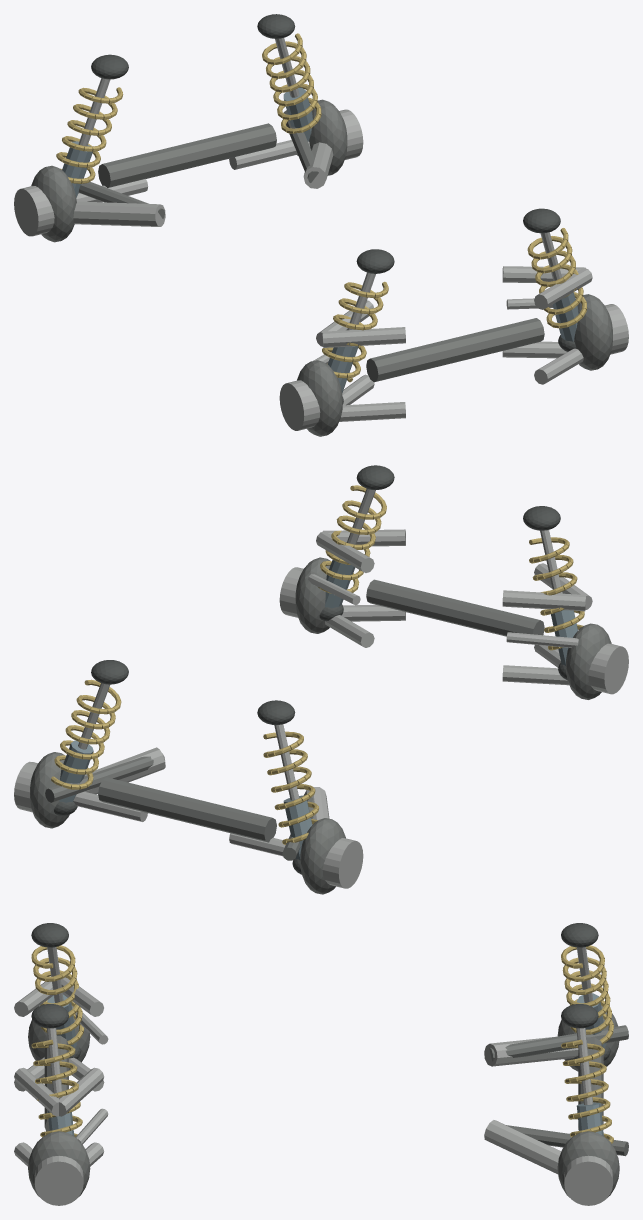
Rendered from PART_013_SuspensionAssembly.glb.
3 views of the same model, one above another, from view 1: azimuth 30°, elevation 25°; view 2: azimuth 150°, elevation 25°; view 3: azimuth 270°, elevation 25° (orthographic).
Visible parts, largest first — view 1: SUSP_RearCrossmember, SUSP_FrontCrossmember, Rear_R_CoilSpring, Front_R_Knuckle, Rear_L_CoilSpring, Rear_L_TrailingArm_Main, Front_L_Knuckle, Front_R_CoilSpring, Rear_L_Knuckle, Front_L_CoilSpring, Rear_R_Knuckle, Rear_L_Hub (+21 smaller); view 2: SUSP_RearCrossmember, SUSP_FrontCrossmember, Rear_R_CoilSpring, Rear_L_Knuckle, Front_L_Knuckle, Rear_L_CoilSpring, Front_R_CoilSpring, Front_R_Knuckle, Rear_R_Knuckle, Front_L_Hub, Rear_L_Hub, Front_L_CoilSpring (+22 smaller); view 3: Rear_L_CoilSpring, Front_R_Hub, Rear_R_Hub, Front_L_CoilSpring, Rear_R_CoilSpring, Rear_R_TrailingArm_Main, Rear_R_Knuckle, Front_R_Knuckle, Front_R_CoilSpring, Rear_L_TrailingArm_Brace, Rear_L_TrailingArm_Main, Front_R_UpperArm_Fwd (+18 smaller).
Boxes of the visible parts, x1=… form: SUSP_RearCrossmember: x1=98, y1=123, x2=276, y2=187; SUSP_FrontCrossmember: x1=366, y1=318, x2=544, y2=382; Rear_R_CoilSpring: x1=262, y1=33, x2=321, y2=133; Front_R_Knuckle: x1=574, y1=294, x2=612, y2=370; Rear_L_CoilSpring: x1=56, y1=87, x2=123, y2=183; Rear_L_TrailingArm_Main: x1=73, y1=201, x2=165, y2=226; Front_L_Knuckle: x1=297, y1=360, x2=342, y2=436; Front_R_CoilSpring: x1=527, y1=228, x2=587, y2=328; Rear_L_Knuckle: x1=31, y1=165, x2=76, y2=242; Front_L_CoilSpring: x1=322, y1=281, x2=388, y2=382; Rear_R_Knuckle: x1=309, y1=99, x2=347, y2=175; Rear_L_Hub: x1=14, y1=186, x2=54, y2=236; SUSP_RearCrossmember: x1=98, y1=777, x2=276, y2=842; SUSP_FrontCrossmember: x1=366, y1=579, x2=544, y2=636; Rear_R_CoilSpring: x1=51, y1=679, x2=121, y2=789; Rear_L_Knuckle: x1=300, y1=818, x2=345, y2=894; Front_L_Knuckle: x1=566, y1=623, x2=611, y2=699; Rear_L_CoilSpring: x1=263, y1=731, x2=318, y2=844; Front_R_CoilSpring: x1=318, y1=485, x2=386, y2=593; Front_R_Knuckle: x1=295, y1=557, x2=330, y2=633; Rear_R_Knuckle: x1=30, y1=752, x2=69, y2=828; Front_L_Hub: x1=588, y1=643, x2=628, y2=694; Rear_L_Hub: x1=322, y1=838, x2=363, y2=888; Front_L_CoilSpring: x1=529, y1=537, x2=584, y2=650; Rear_L_CoilSpring: x1=561, y1=945, x2=613, y2=1044; Front_R_Hub: x1=34, y1=1156, x2=83, y2=1205; Rear_R_Hub: x1=564, y1=1155, x2=612, y2=1205; Front_L_CoilSpring: x1=31, y1=945, x2=84, y2=1045; Rear_R_CoilSpring: x1=561, y1=1039, x2=613, y2=1143; Rear_R_TrailingArm_Main: x1=484, y1=1120, x2=561, y2=1174; Rear_R_Knuckle: x1=557, y1=1131, x2=619, y2=1197; Front_R_Knuckle: x1=28, y1=1131, x2=90, y2=1197; Front_R_CoilSpring: x1=31, y1=1039, x2=82, y2=1137; Rear_L_TrailingArm_Brace: x1=489, y1=1025, x2=628, y2=1061; Rear_L_TrailingArm_Main: x1=484, y1=1036, x2=578, y2=1066; Front_R_UpperArm_Fwd: x1=14, y1=1067, x2=58, y2=1116.
Size of the model in its own units: 1.68 by 0.857 by 2.76.
